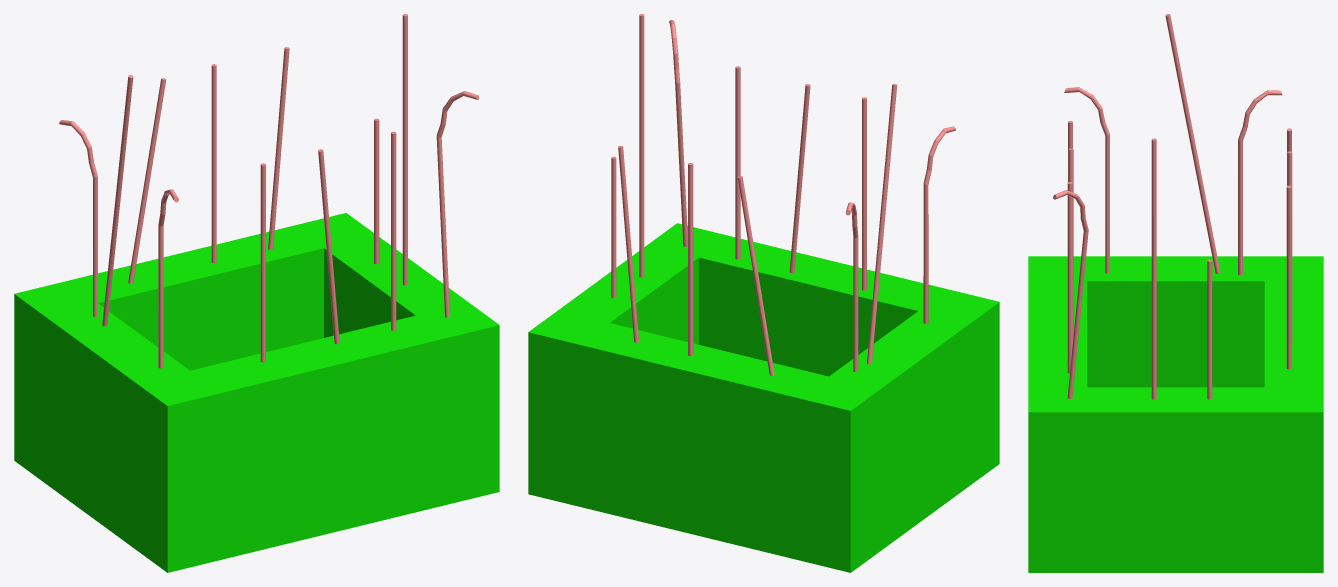
Rendered from CS_wall_prop.FBX.
3 views of the same model, side by side, from view 1: azimuth 30°, elevation 25°; view 2: azimuth 150°, elevation 25°; view 3: azimuth 270°, elevation 25° (orthographic). The views are drawn at different scales.
Parts seen in each view (by area): view 1: SM_wall_prop; view 2: SM_wall_prop; view 3: SM_wall_prop.
Boxes of the visible parts, x1,y1,x2,y2 form: SM_wall_prop: [14, 14, 499, 572]; SM_wall_prop: [528, 14, 999, 572]; SM_wall_prop: [1028, 14, 1323, 572].
Size of the model in its own units: 250 by 200 by 314.
